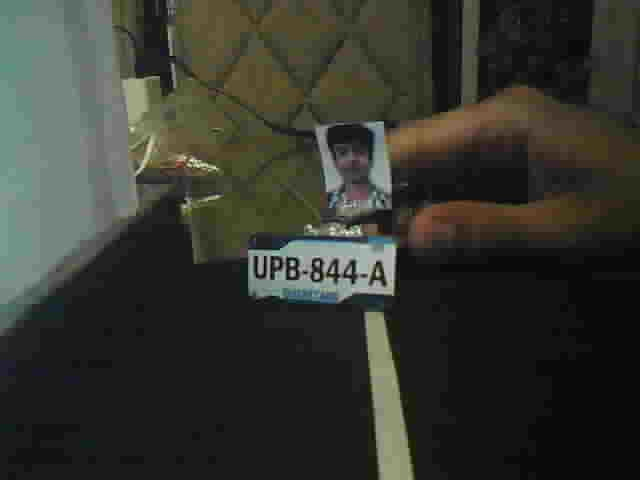PLACA: (246, 230, 399, 309)
ROSTRO: (323, 123, 384, 207)
